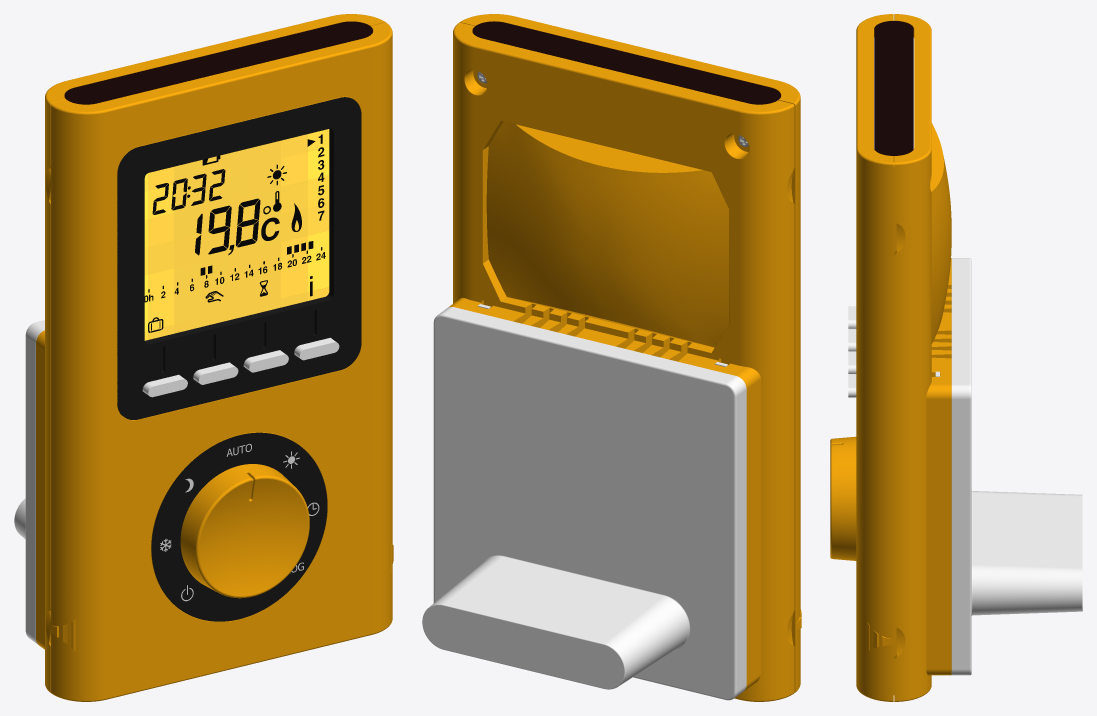
3 views of the same model, side by side, from view 1: azimuth 30°, elevation 25°; view 2: azimuth 150°, elevation 25°; view 3: azimuth 270°, elevation 25° (orthographic). The views are drawn at different scales.
Parts seen in each view (by area): view 1: TTIR_obudowa, TTIR_ciemny_plastik, TTIR_lcd_tlo, TTIR_obudowa_emi, TTIR_lcd_symbols, TTIR_stopa, TTIR_przyciski; view 2: TTIR_obudowa, TTIR_stopa, TTIR_obudowa_emi; view 3: TTIR_obudowa, TTIR_stopa, TTIR_obudowa_emi, TTIR_przyciski.
Part boxes in pixels (left/top/right/bottom): TTIR_obudowa: left=36, top=14, right=393, bottom=701; TTIR_ciemny_plastik: left=117, top=97, right=361, bottom=621; TTIR_lcd_tlo: left=144, top=129, right=329, bottom=340; TTIR_obudowa_emi: left=64, top=21, right=372, bottom=461; TTIR_lcd_symbols: left=144, top=134, right=325, bottom=332; TTIR_stopa: left=14, top=320, right=44, bottom=644; TTIR_przyciski: left=142, top=337, right=339, bottom=397; TTIR_obudowa: left=448, top=14, right=801, bottom=701; TTIR_stopa: left=422, top=304, right=746, bottom=700; TTIR_obudowa_emi: left=472, top=21, right=780, bottom=104; TTIR_obudowa: left=830, top=14, right=951, bottom=701; TTIR_stopa: left=935, top=258, right=1082, bottom=675; TTIR_obudowa_emi: left=874, top=21, right=913, bottom=155; TTIR_przyciski: left=848, top=306, right=856, bottom=397.
Size of the model in its own units: 8 by 13.4 by 5.68.
Materials: 10 (10 with a texture image).
